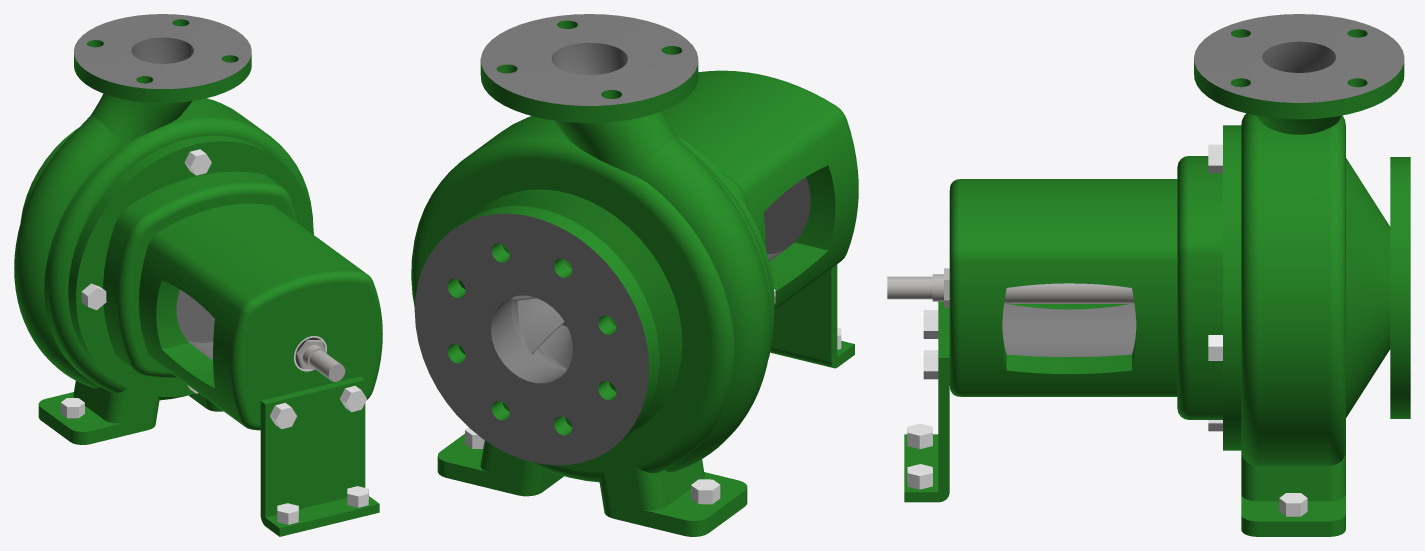
The model's file is Kreiselpumpe.obj.
3 views of the same model, side by side, from view 1: azimuth 30°, elevation 25°; view 2: azimuth 150°, elevation 25°; view 3: azimuth 270°, elevation 25° (orthographic). The views are drawn at different scales.
Visible parts, largest first — view 1: Volumenkörper1:1, Volumenkörper1, Volumenkörper1:2; view 2: Volumenkörper1, Volumenkörper1:1, Volumenkörper4; view 3: Volumenkörper1, Volumenkörper1:1, Volumenkörper1:2.
Boxes of the visible parts, box(x1,y1,x2,y2) form: Volumenkörper1:1: box(68, 135, 382, 536); Volumenkörper1: box(14, 14, 313, 444); Volumenkörper1:2: box(296, 339, 345, 381); Volumenkörper1: box(411, 14, 773, 536); Volumenkörper1:1: box(662, 70, 858, 368); Volumenkörper4: box(512, 295, 572, 369); Volumenkörper1: box(1194, 14, 1410, 536); Volumenkörper1:1: box(904, 125, 1241, 502); Volumenkörper1:2: box(887, 268, 1134, 307).
Size of the model in its own units: 0.3313 by 0.4035 by 0.46.
